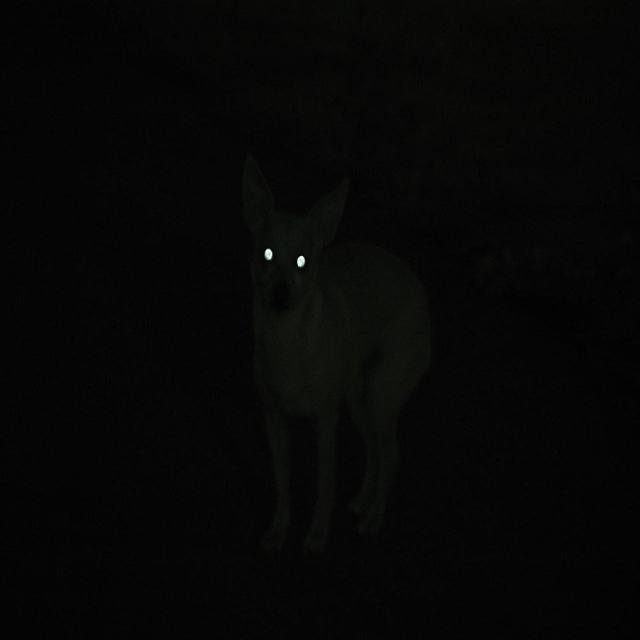Dog: (187, 193, 423, 518)
